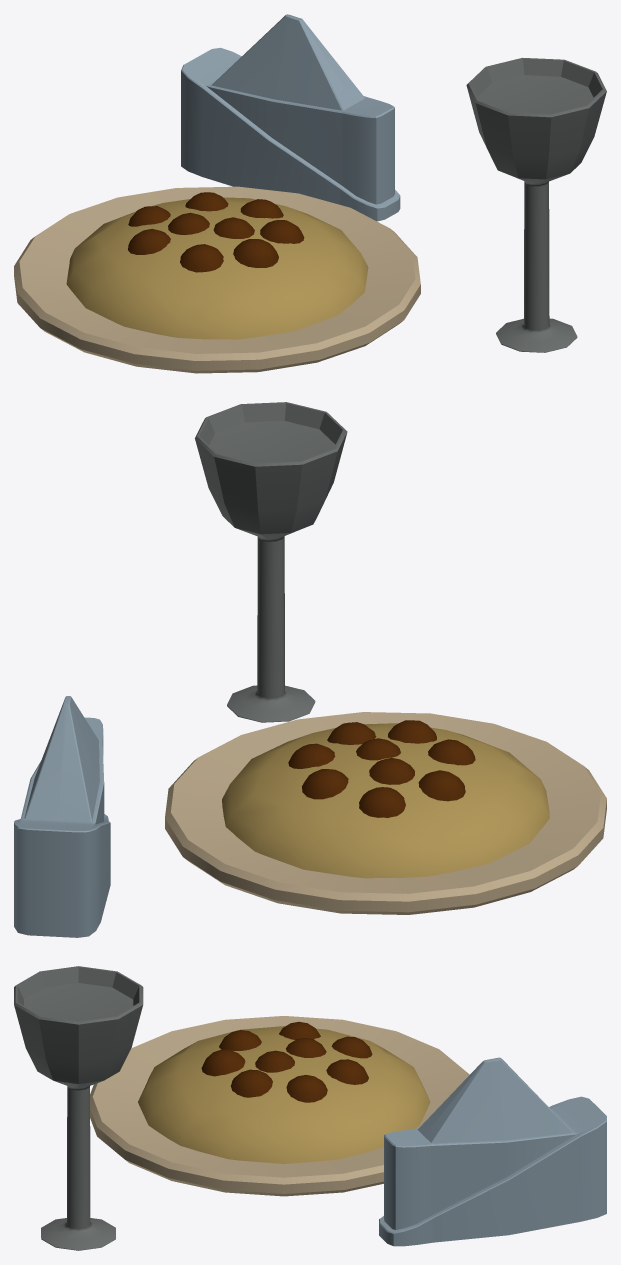
Rendered from altDiningSetProp_HWG.fbx.
3 renders of one model, top to bottom at view 1: azimuth 30°, elevation 25°; view 2: azimuth 150°, elevation 25°; view 3: azimuth 270°, elevation 25°, orthographic. The views are drawn at different scales.
Parts seen in each view (by area): view 1: fulldiningset; view 2: fulldiningset; view 3: fulldiningset.
Boxes of the visible parts, x1,y1,x2,y2 form: fulldiningset: (14, 14, 606, 373); fulldiningset: (14, 402, 606, 937); fulldiningset: (14, 966, 606, 1250).
Size of the model in its own units: 27.9 by 14.77 by 33.05.
